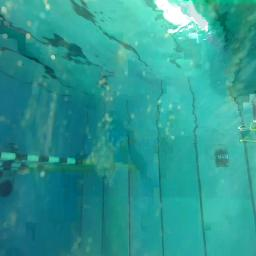front: (215, 148, 229, 168)
